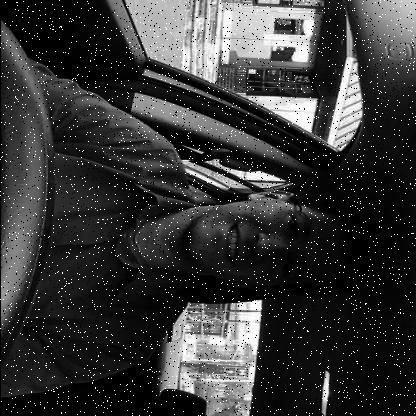no_seatbelt: (18, 124, 387, 330)
